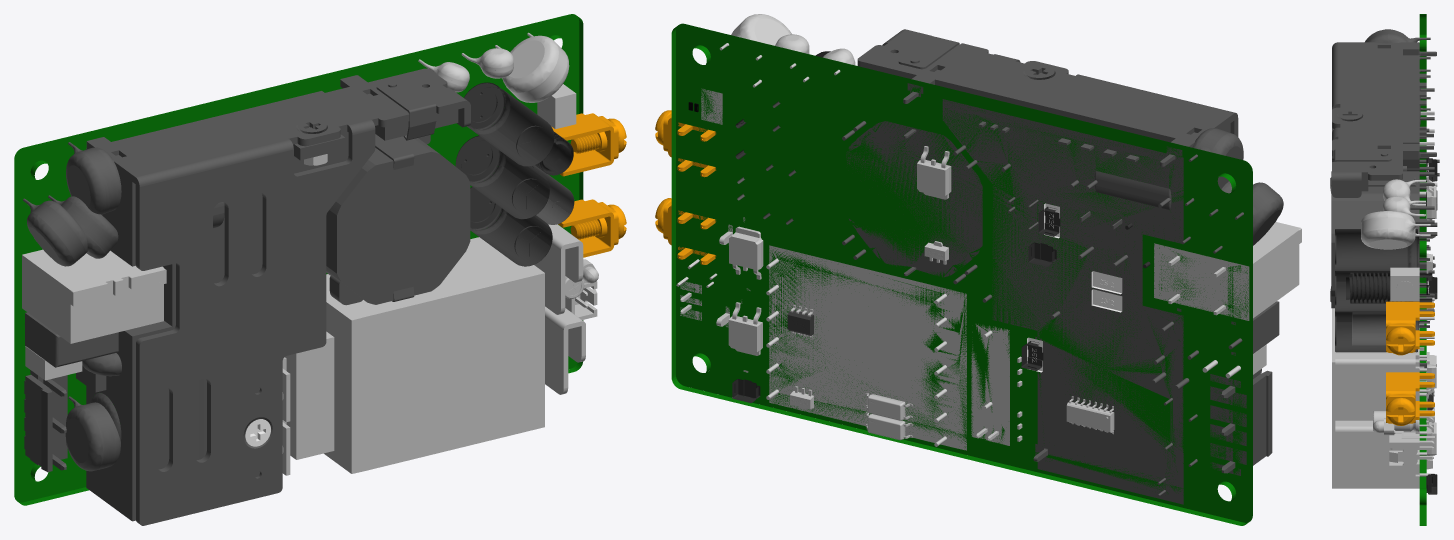
File: LOF350-20Bxx.glb
The picture shows the model from 3 angles, left to right: view 1: azimuth 30°, elevation 25°; view 2: azimuth 150°, elevation 25°; view 3: azimuth 270°, elevation 25°; orthographic projection. The views are drawn at different scales.
Parts seen in each view (by area): view 1: mesh_36, mesh_3, mesh_47, mesh_4, mesh_0, mesh_52, mesh_53, mesh_7, mesh_65, mesh_37, mesh_13, mesh_38 (+7 smaller); view 2: mesh_47, mesh_36, mesh_3, mesh_4, mesh_0, mesh_7, mesh_23, mesh_12, mesh_19, mesh_37, mesh_38, mesh_11 (+2 smaller); view 3: mesh_36, mesh_14, mesh_13, mesh_52, mesh_7, mesh_3, mesh_47, mesh_37, mesh_38, mesh_56, mesh_18, mesh_39 (+13 smaller).
Part boxes in pixels (x1,y1,x2,y2): mesh_36: (23,68,470,525); mesh_3: (324,237,544,473); mesh_47: (14,14,583,505); mesh_4: (22,249,166,343); mesh_0: (285,331,334,459); mesh_52: (464,82,554,166); mesh_53: (455,135,549,219); mesh_7: (461,32,569,102); mesh_65: (470,187,552,266); mesh_37: (551,113,626,176); mesh_13: (545,306,585,394); mesh_38: (558,199,626,257); mesh_47: (671,23,1252,525); mesh_36: (842,29,1283,504); mesh_3: (766,245,966,450); mesh_4: (1154,222,1301,320); mesh_0: (971,324,1009,445); mesh_7: (719,14,809,87); mesh_23: (729,226,763,279); mesh_12: (728,302,762,355); mesh_19: (917,146,951,199); mesh_37: (655,110,716,177); mesh_38: (655,198,716,264); mesh_11: (1066,396,1114,434); mesh_36: (1330,29,1439,368); mesh_14: (1335,353,1434,412); mesh_13: (1335,420,1434,480); mesh_52: (1335,229,1429,270); mesh_7: (1361,196,1430,249); mesh_3: (1332,297,1434,488); mesh_47: (1419,14,1426,525); mesh_37: (1386,301,1434,355); mesh_38: (1386,372,1434,425); mesh_56: (1346,272,1432,303); mesh_18: (1389,432,1433,471); mesh_39: (1352,312,1429,345).
Size of the model in its own units: 134 by 77.12 by 25.95.
